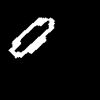chain: (9, 18, 54, 57)
